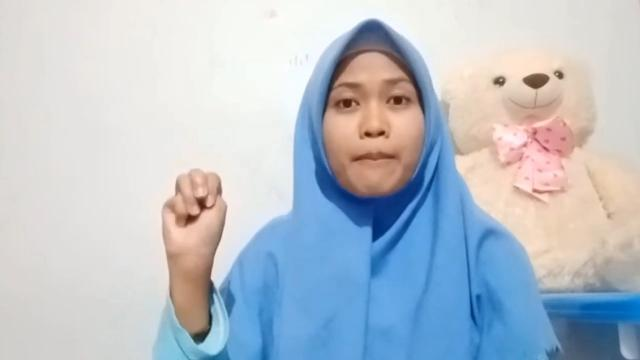M: (160, 165, 230, 262)
